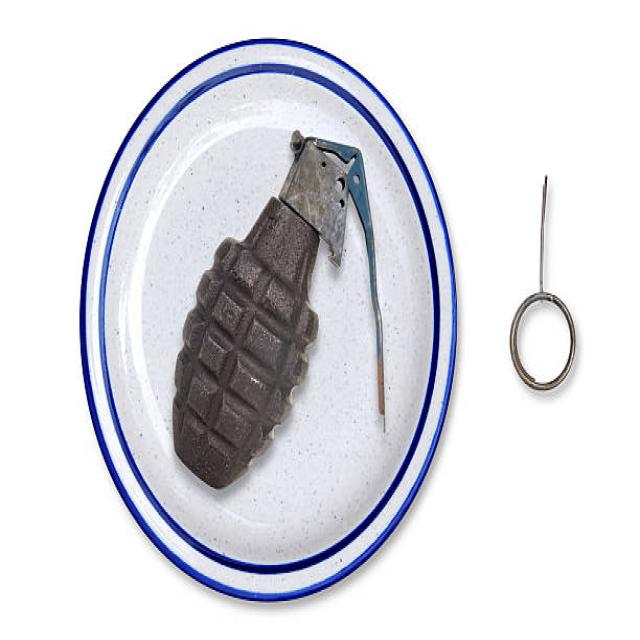grenade: (168, 125, 398, 499)
